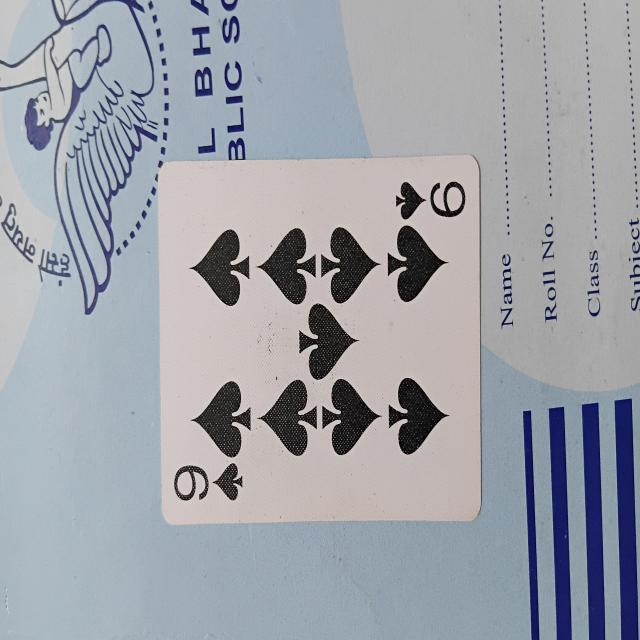9S: (161, 155, 481, 521)
